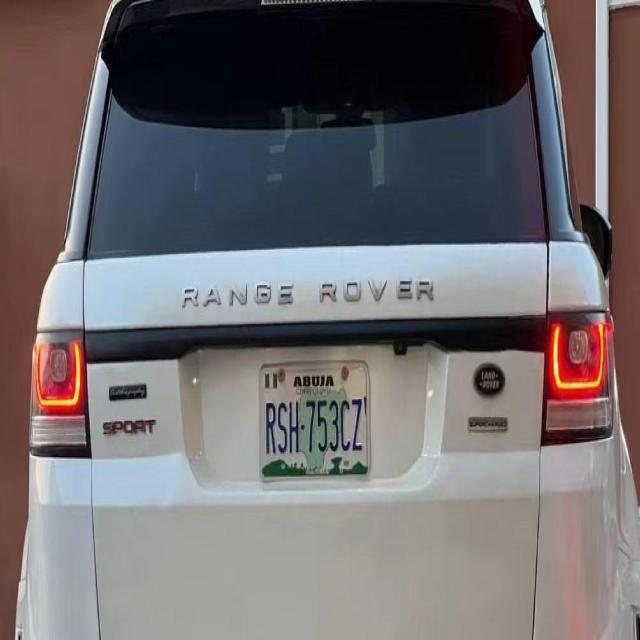Nigerian License Plate - vdataset benjamin-daria: (257, 352, 373, 486)
